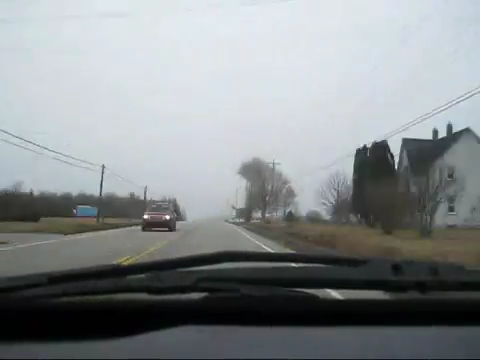car: (141, 201, 178, 232)
